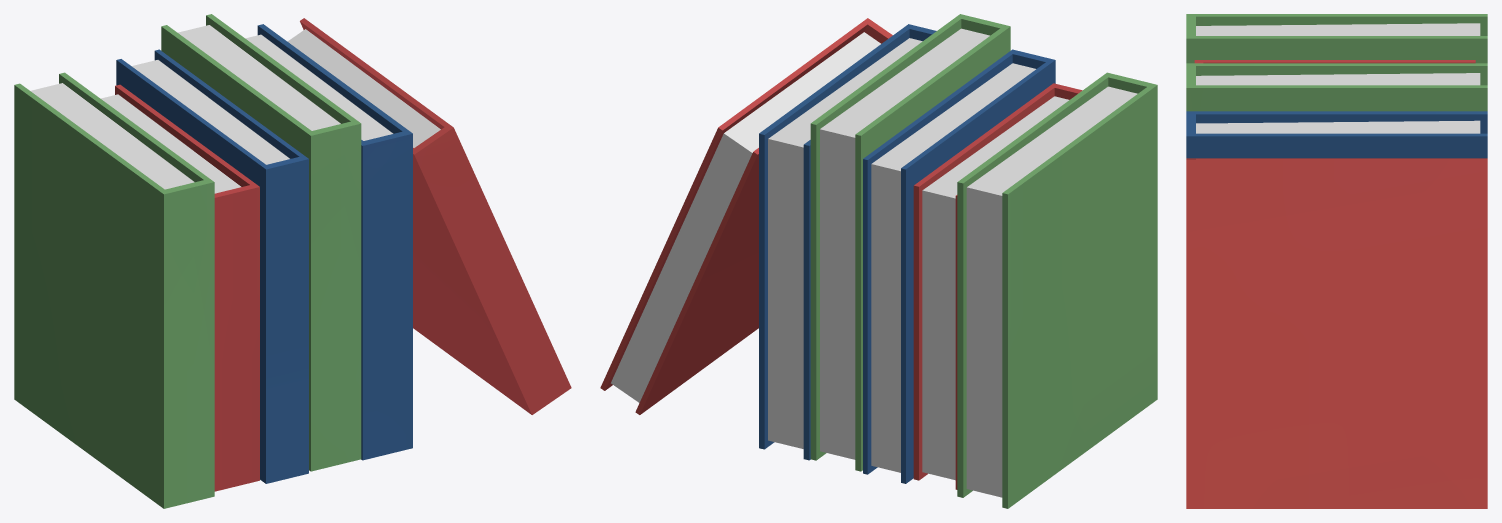
Rendered from books.glb.
3 views of the same model, side by side, from view 1: azimuth 30°, elevation 25°; view 2: azimuth 150°, elevation 25°; view 3: azimuth 270°, elevation 25° (orthographic).
Visible parts, largest first — view 1: Books; view 2: Books; view 3: Books.
Part boxes in pixels (x1,y1,x2,y2): Books: (14,14,571,508); Books: (600,14,1157,508); Books: (1186,14,1487,508).
Bounding box in the file's own units: 0.1972 × 0.1558 × 0.1253.
1 material, 1 textured.
